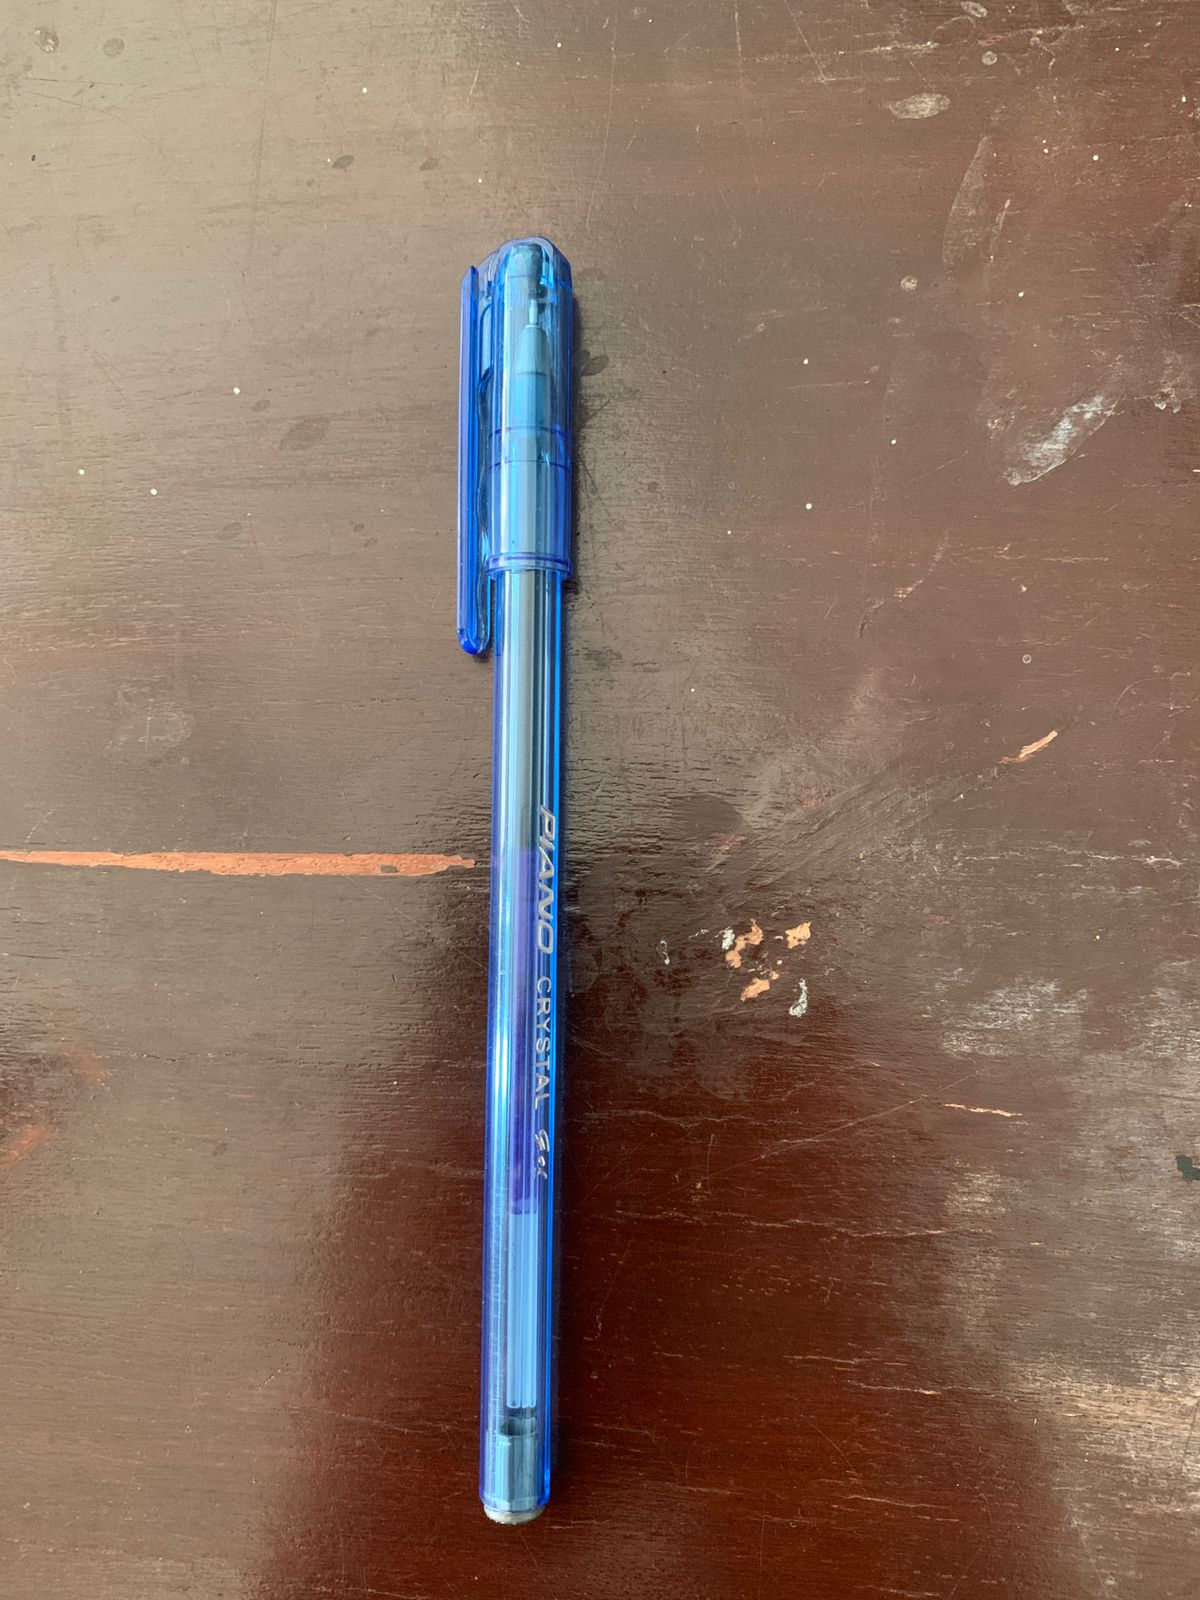pen: (253, 144, 828, 1569)
